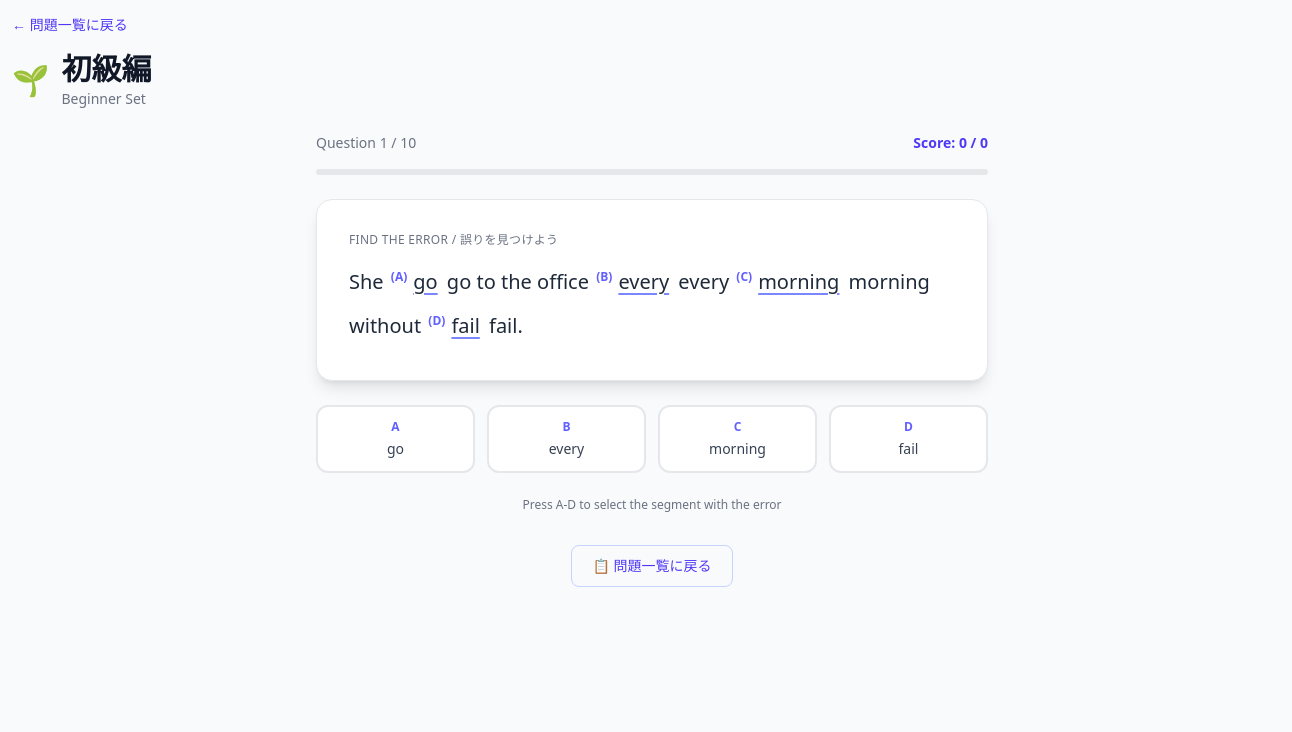
Test: ErrorCorrectionPage › shows feedback after clicking an answer option
// Click the first segment button (option A)
Click the button "go": (426, 282) [409, 260, 442, 304]
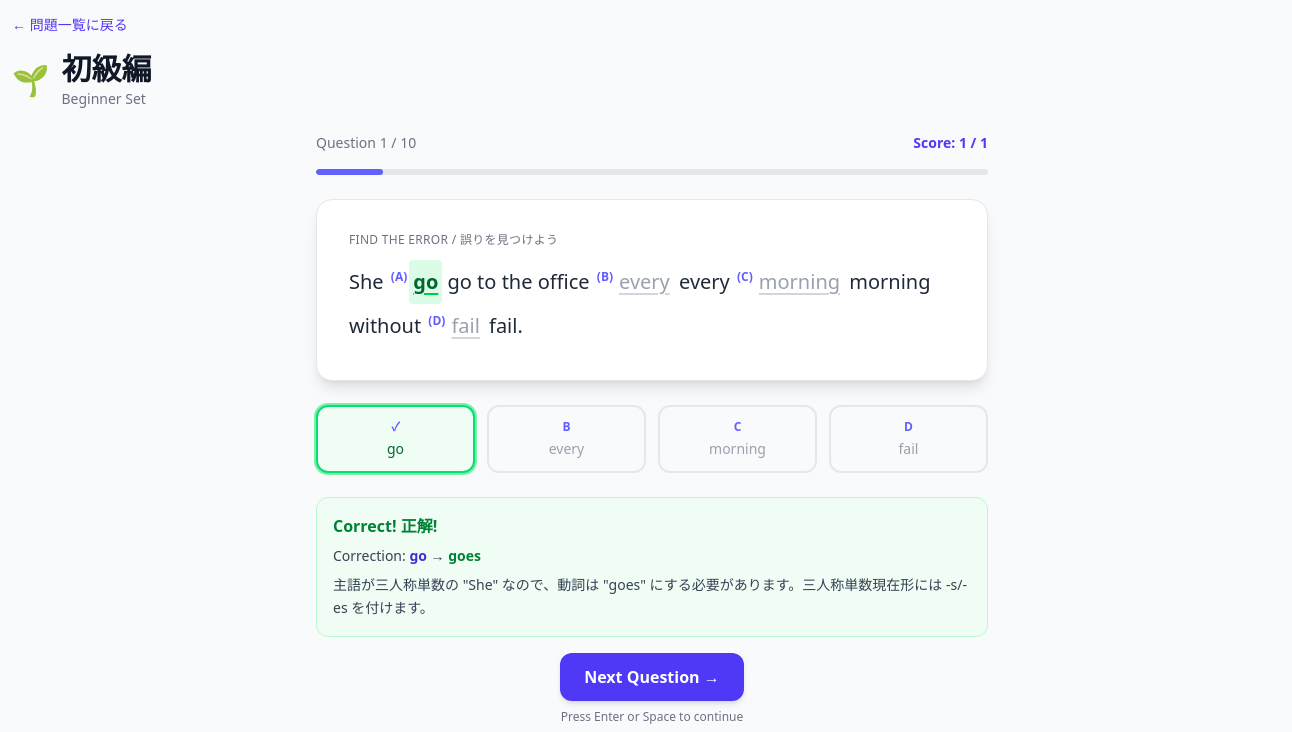
expect the message is shown: met, box [316, 497, 988, 636]
expect the button "Next Question →" is shown: met, box [560, 652, 744, 700]
